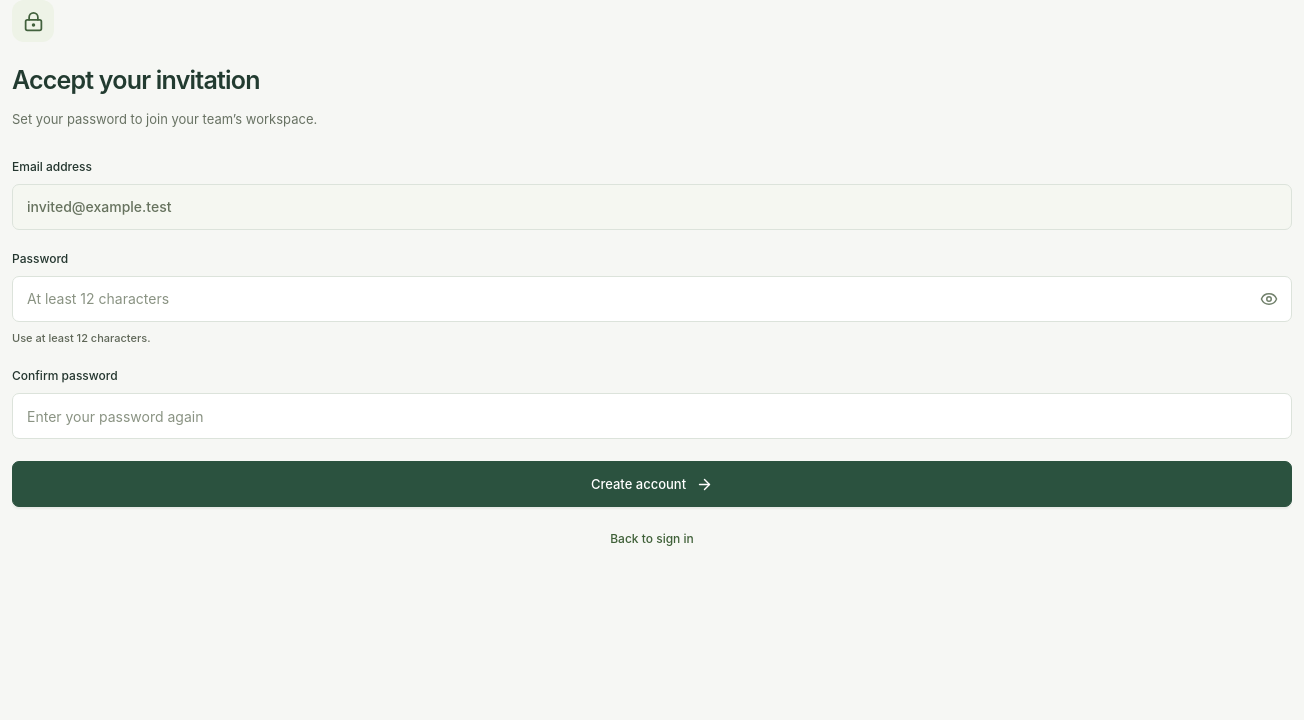
Test: invitation-only email authentication › checks an invitation before offering account creation and waits for email confirmation
Expected: the heading "Accept your invitation" is shown, [12, 65, 260, 95]
Expected: the field labelled "Email address" holds "invited@example.test", [12, 184, 1292, 230]
Type "Synthetic-test-password" into the password field labelled "Password" at (652, 299), box [12, 276, 1292, 322]
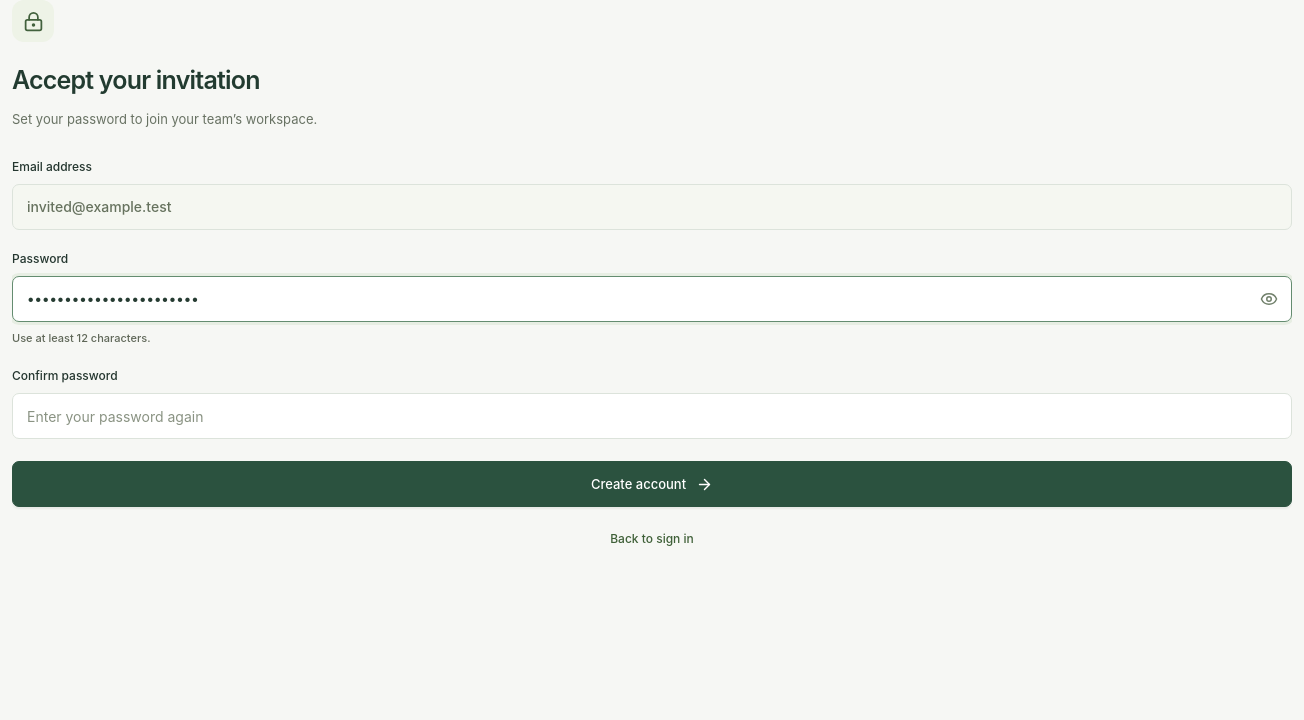
Type "Synthetic-test-password" into the password field labelled "Confirm password" at (652, 416), box [12, 393, 1292, 439]
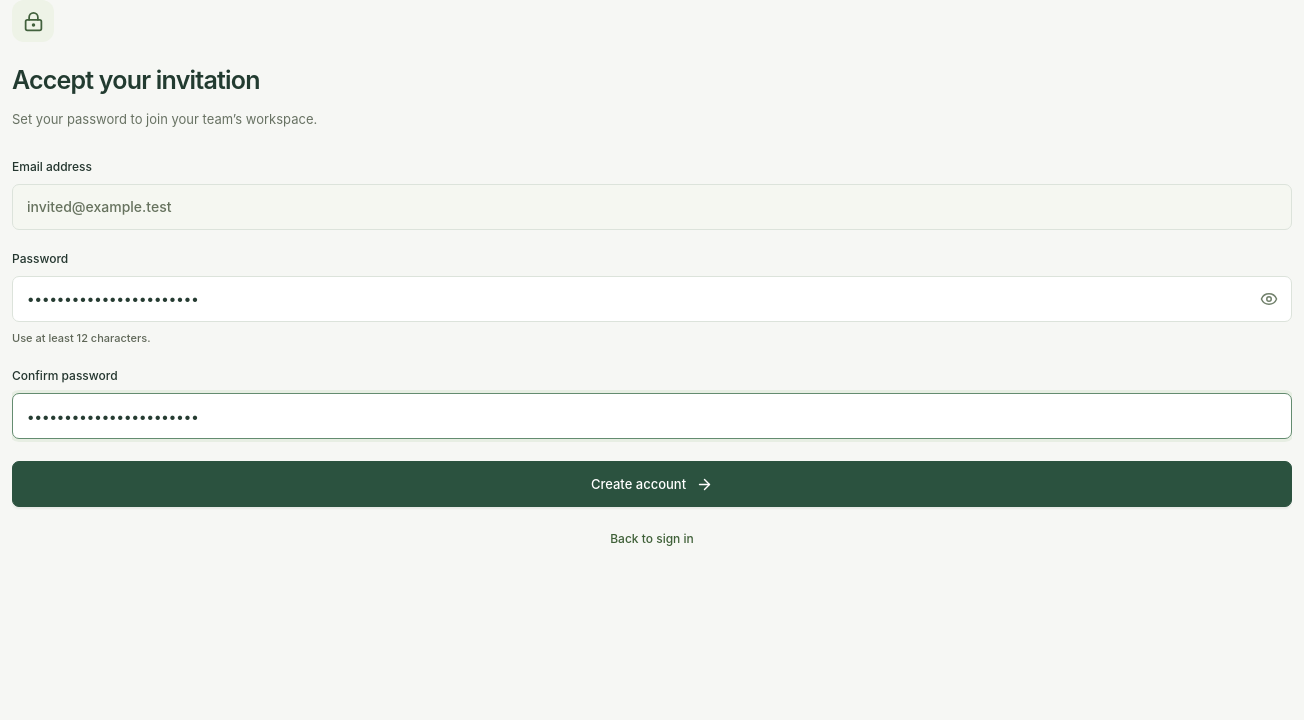
Click the button "Create account" at (652, 484), box [12, 461, 1292, 507]
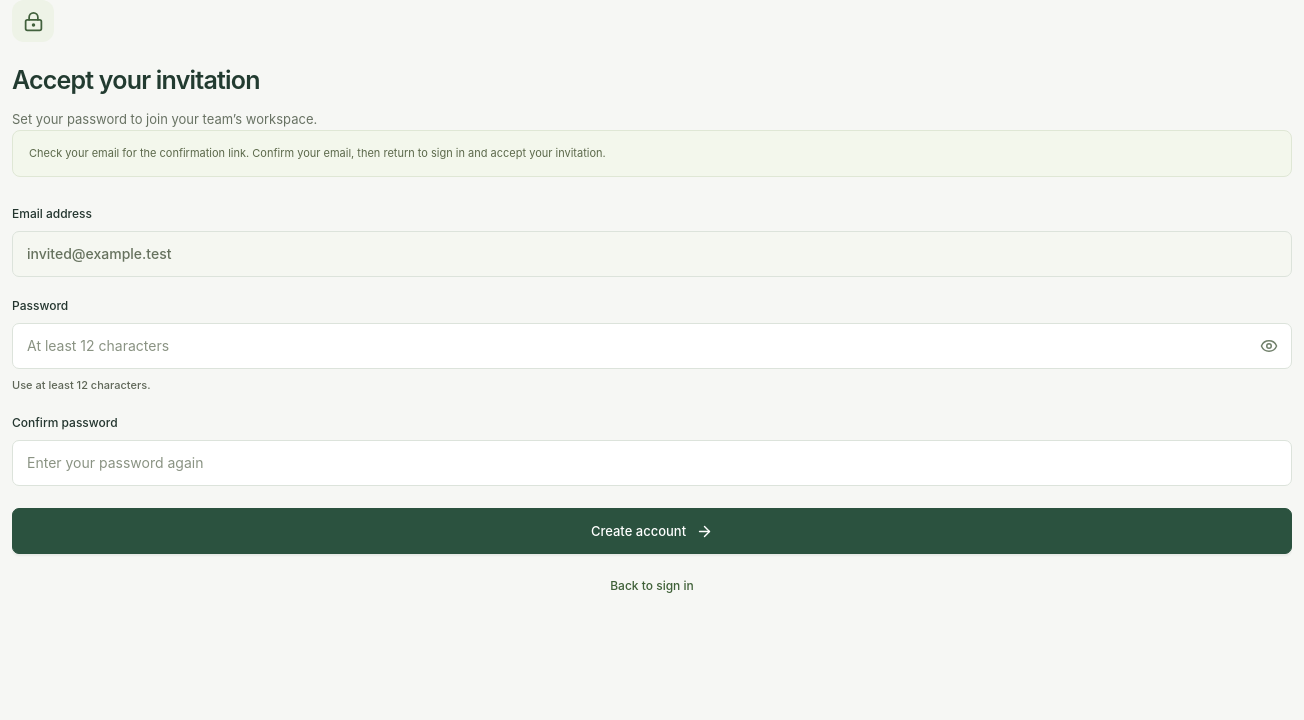
Now the text "Check your email for the confirmation link" is shown, box [29, 146, 606, 160]
